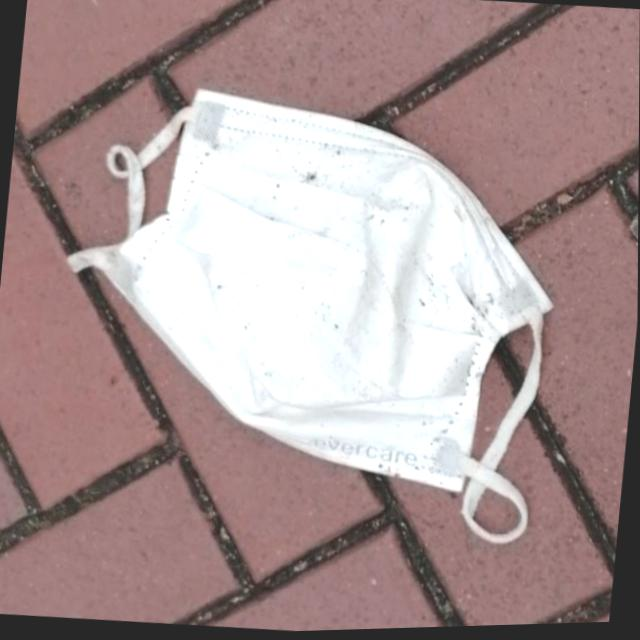Mask: (39, 65, 579, 563)
